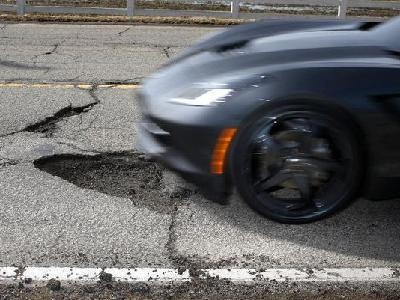pothole: (31, 147, 196, 214), (22, 102, 91, 136)
